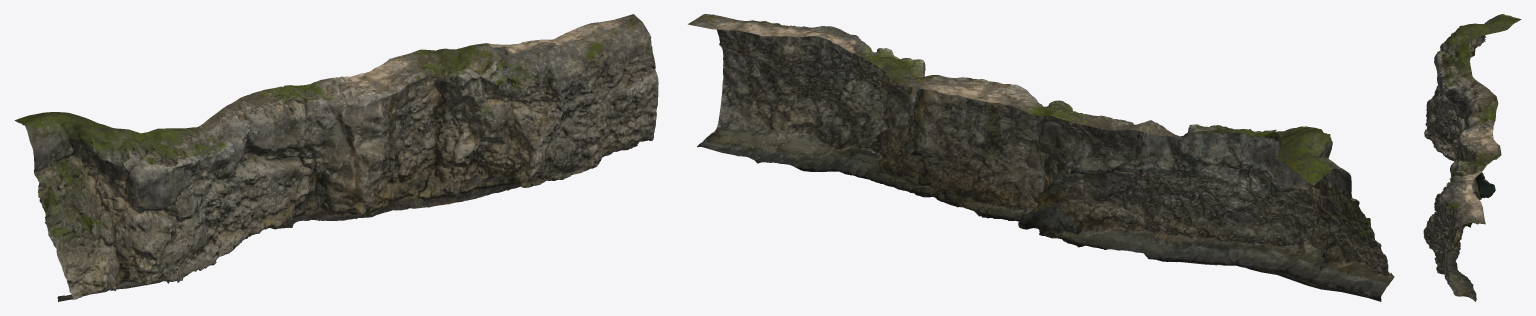
Rendered from coastal_cliff_02.glb.
The picture shows the model from 3 angles, left to right: view 1: azimuth 30°, elevation 25°; view 2: azimuth 150°, elevation 25°; view 3: azimuth 270°, elevation 25°; orthographic projection. The views are drawn at different scales.
Visible parts, largest first — view 1: coastal_cliff_02_LOD0; view 2: coastal_cliff_02_LOD0; view 3: coastal_cliff_02_LOD0.
Boxes of the visible parts, left/top/right/bottom form: coastal_cliff_02_LOD0: left=14, top=14, right=658, bottom=301; coastal_cliff_02_LOD0: left=688, top=14, right=1394, bottom=301; coastal_cliff_02_LOD0: left=1423, top=14, right=1521, bottom=301.
Size of the model in its own units: 40.93 by 10.05 by 8.65.
Materials: 1 (1 with a texture image).
